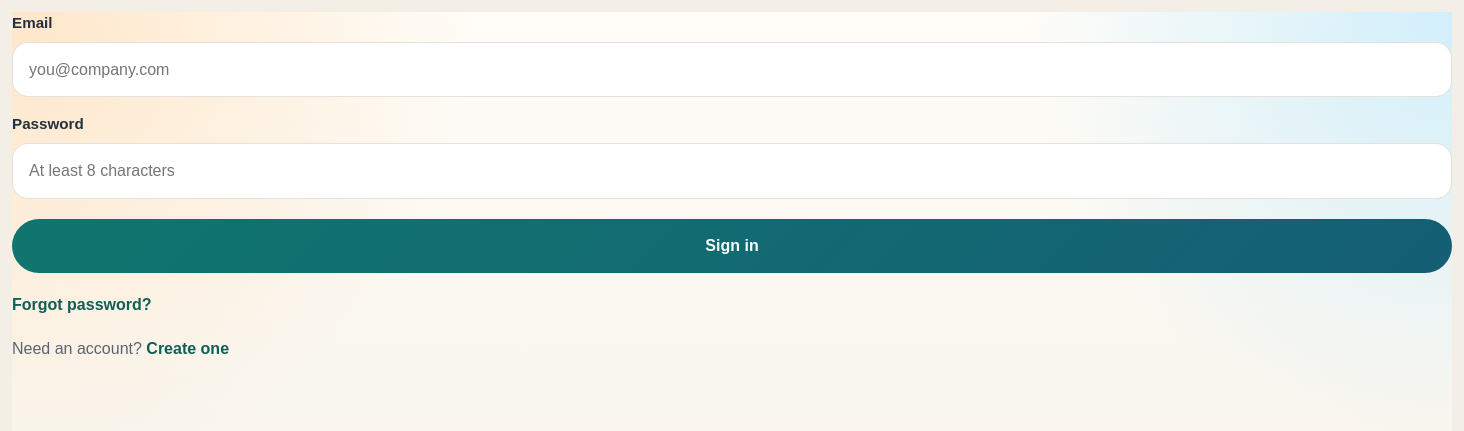
Test: LoginForm › validates that email is required
This screenshot has width=1464, height=431.
Click the button "Sign in".
click(732, 246)  # box [12,219,1452,273]
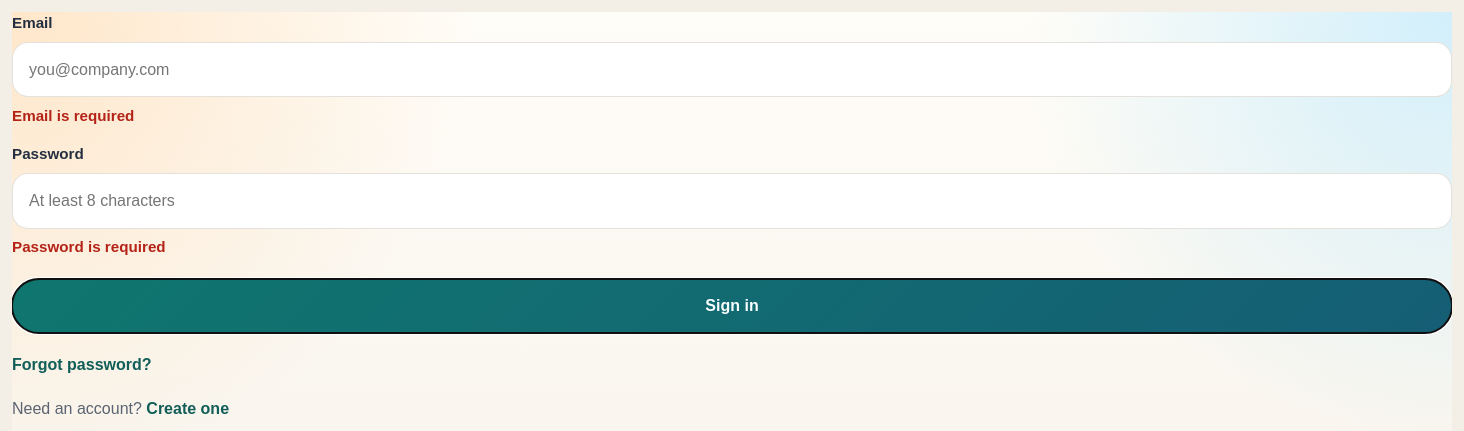
Now the text "Email is required" is shown, box [12,107,134,124]
